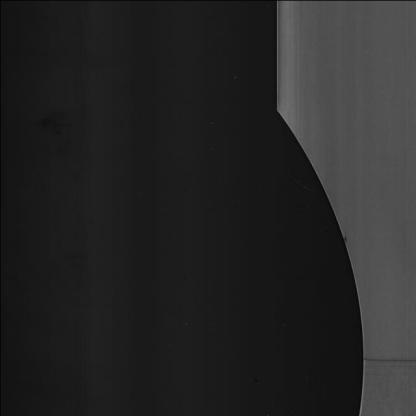crescent_gap: (260, 86, 370, 416)
welding_line: (356, 348, 416, 378)
